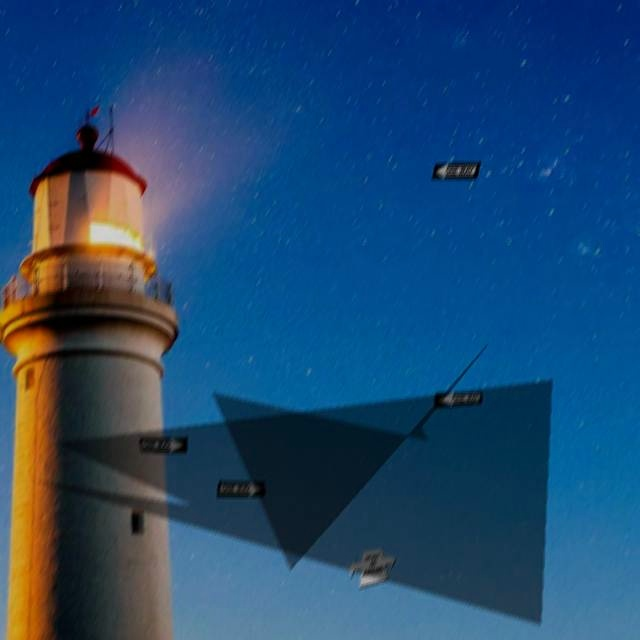DO_NOT_GO_AROUND: (345, 548, 394, 587)
ONE_WAY_ left: (430, 161, 479, 178), (432, 391, 481, 407)
ONE_WAY_ right: (137, 436, 186, 452), (215, 480, 264, 496)
